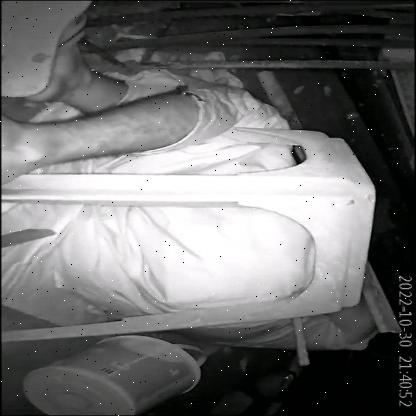leg: (0, 84, 199, 188), (0, 0, 122, 109)
